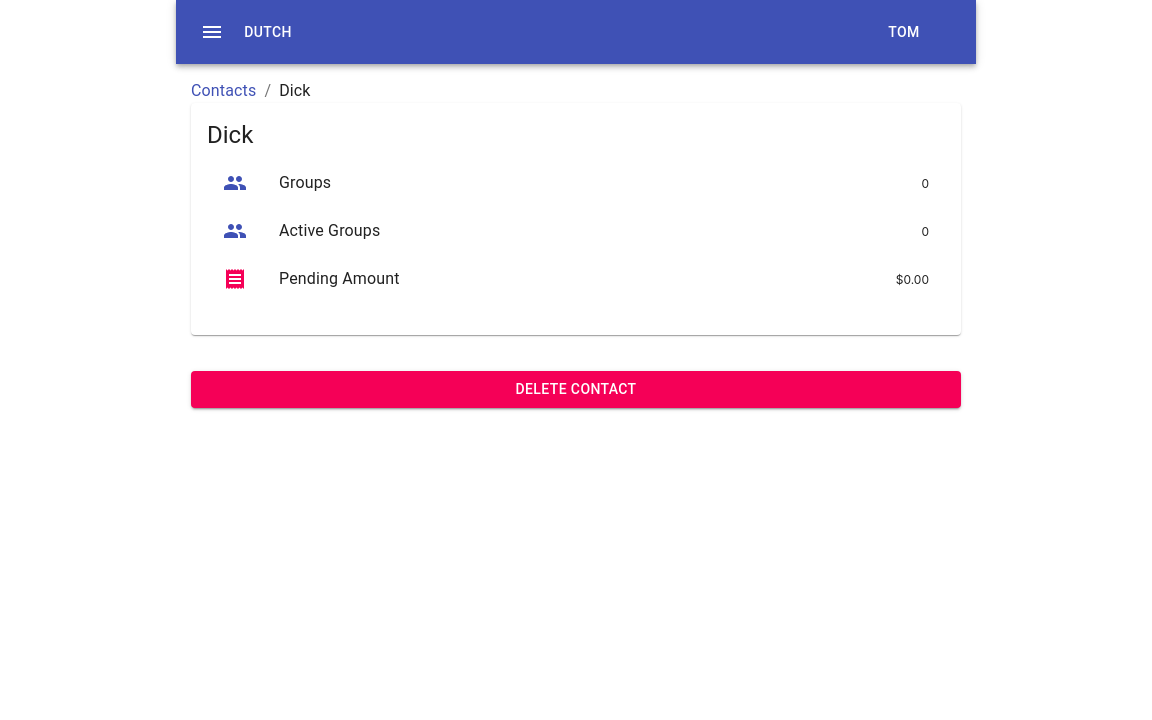
Test case: check deletion for contact with no groups
Click the button with test id "alert-btn".
click(576, 389)  # box [191,371,961,408]
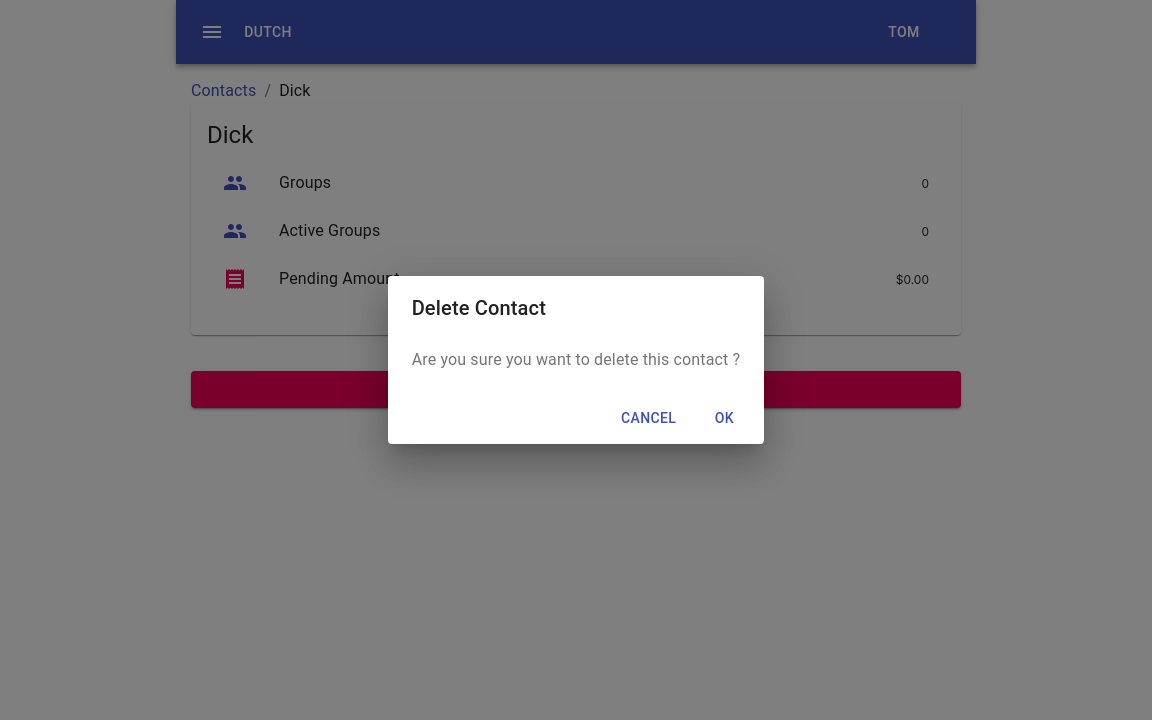
Click the button with test id "ok-btn".
click(724, 418)  # box [692,400,756,436]
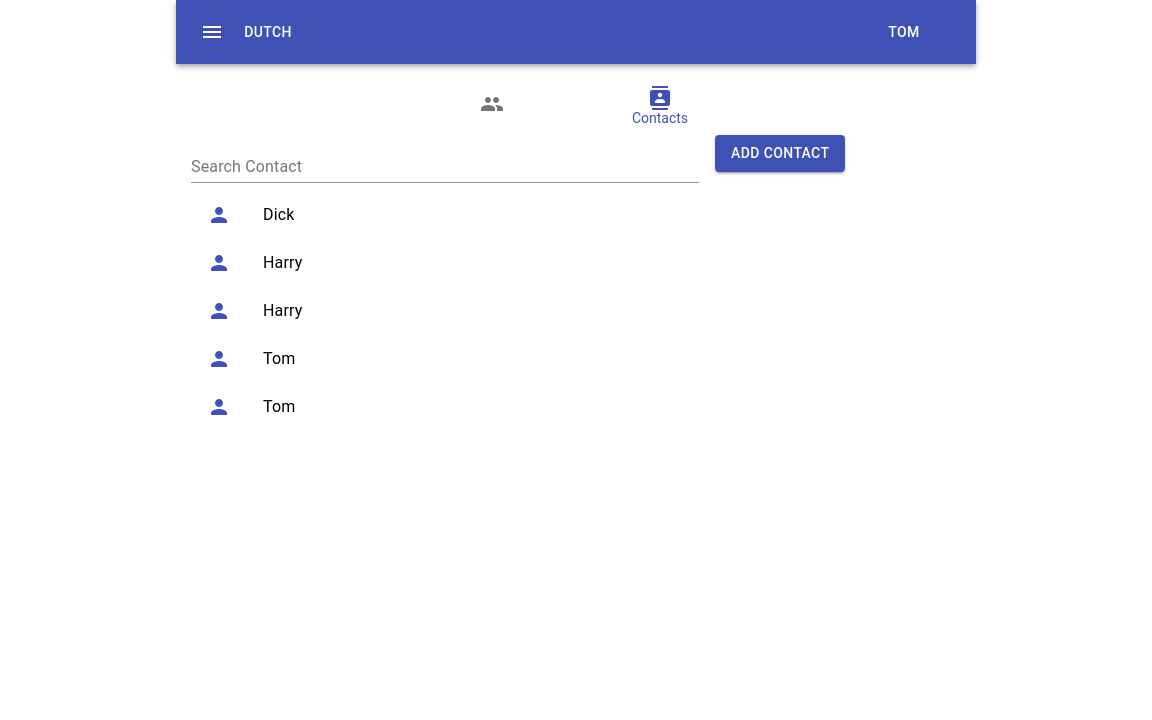
Check: the list with test id "contact-list" is shown, box [207,203,302,419]
